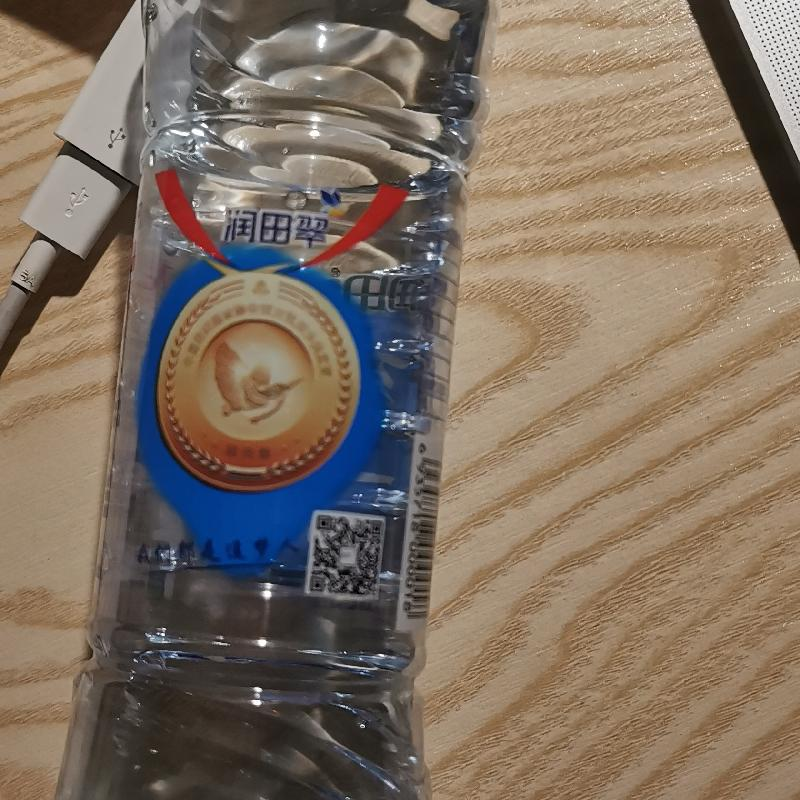bottles: (58, 1, 486, 799)
